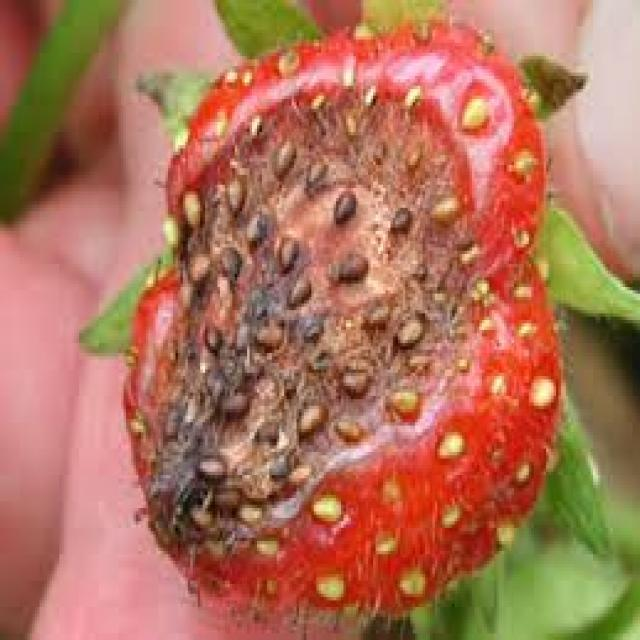Mancha negra Antracnosis: (106, 42, 564, 590)
